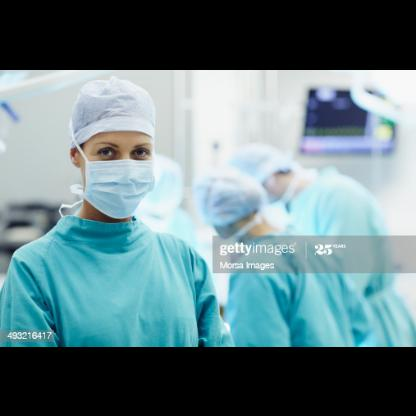Surgical Mask: (72, 114, 150, 216)
